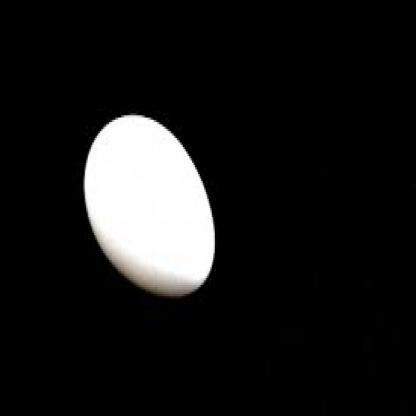egg: (83, 112, 216, 298)
